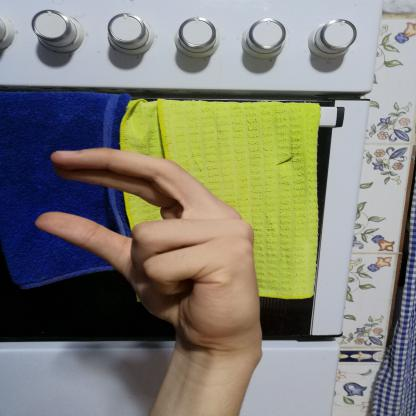DHELL: (25, 139, 282, 358)
